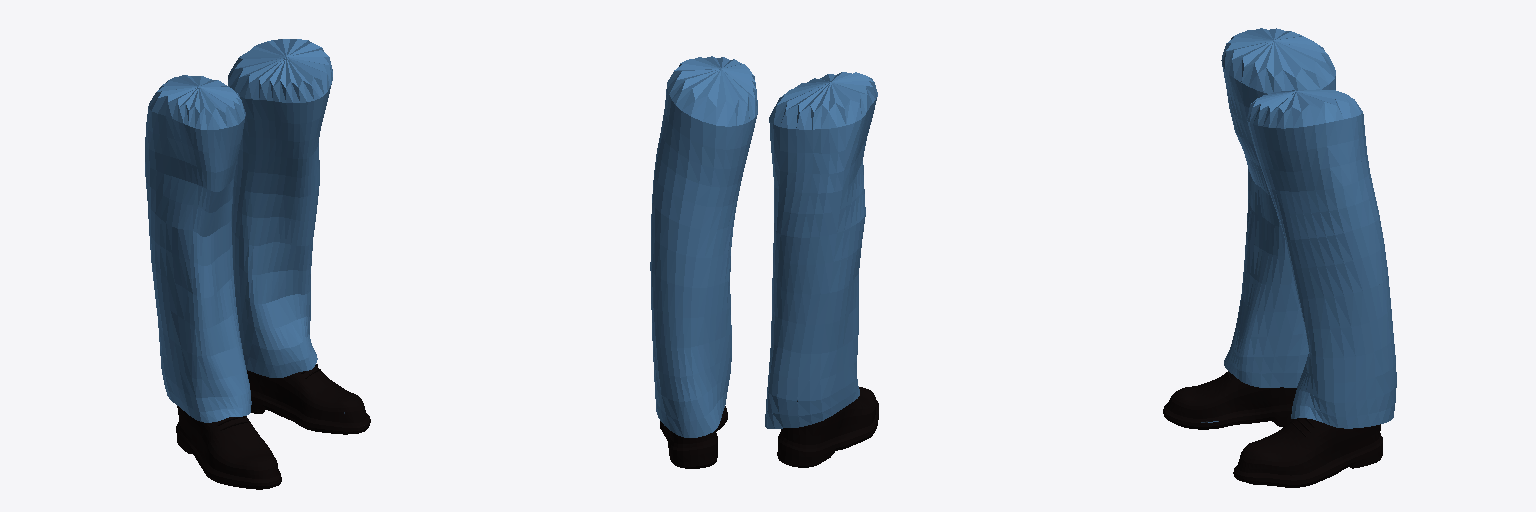
3 renders of one model, left to right at view 1: azimuth 30°, elevation 25°; view 2: azimuth 150°, elevation 25°; view 3: azimuth 270°, elevation 25°, orthographic.
Visible parts, largest first — view 1: workermanOBJ:Mesh; view 2: workermanOBJ:Mesh; view 3: workermanOBJ:Mesh.
Part boxes in pixels (x1,y1,x2,y2): workermanOBJ:Mesh: (145,39,370,489); workermanOBJ:Mesh: (650,56,878,468); workermanOBJ:Mesh: (1163,28,1396,487).
Bounding box in the file's own units: 4.5 × 8.07 × 4.59.
Materials: 1 (1 with a texture image).